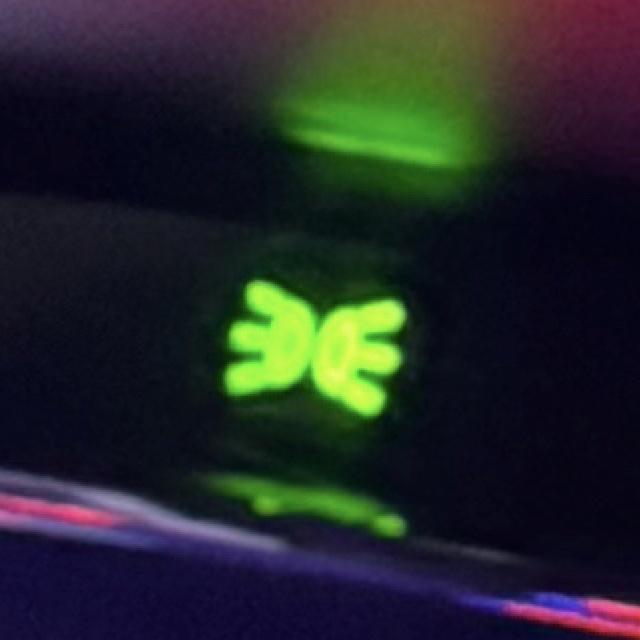Parking Light On: (215, 271, 411, 424)
